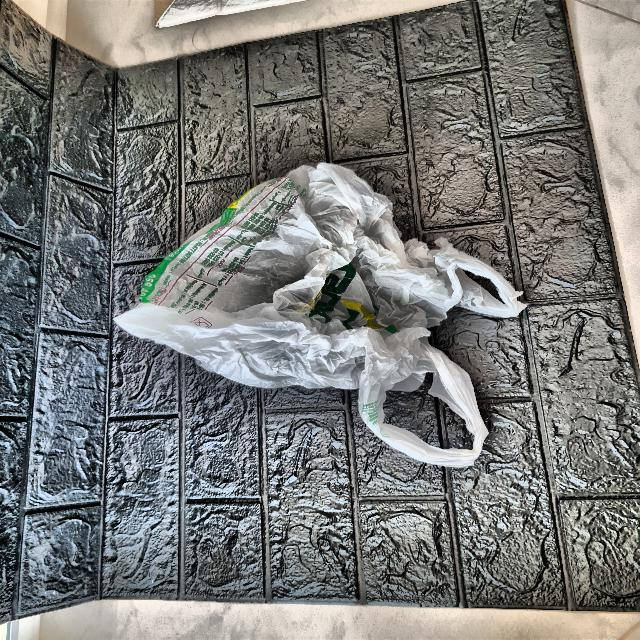plastic bag: (100, 153, 546, 481)
